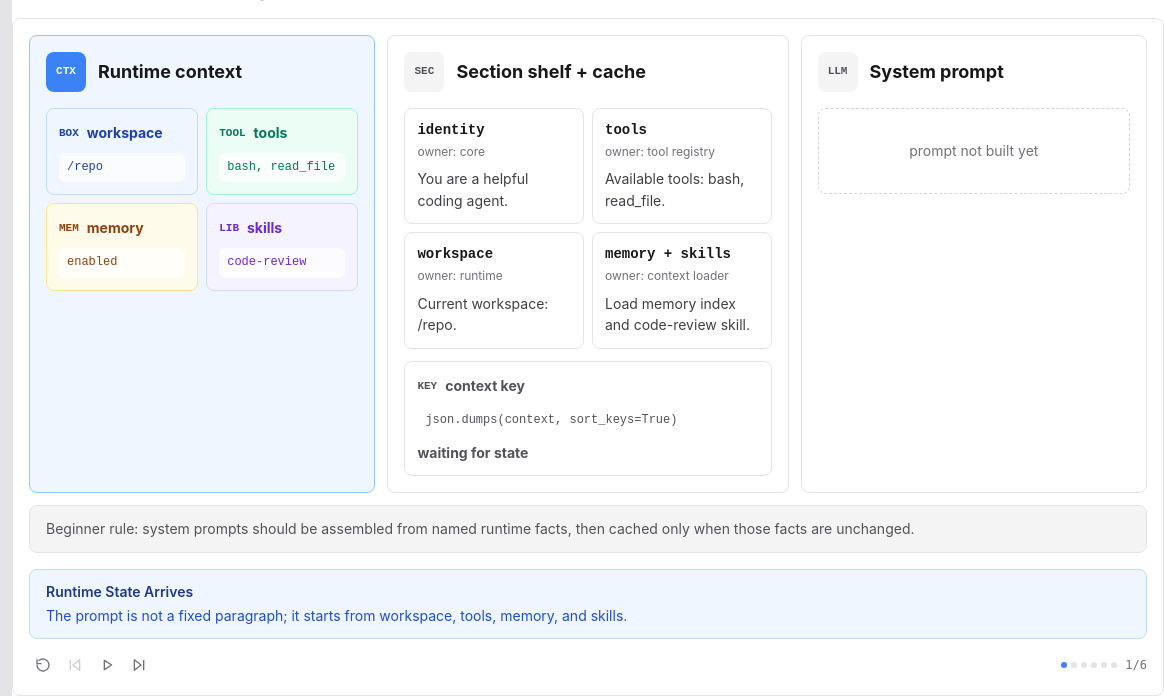
Test: S10SystemPrompt › renders runtime prompt assembly and advances through cache states
Step 1. Click the button titled "Next step" → point(139, 665), box top-left (125, 651), bottom-right (153, 679)
(page scrolled)
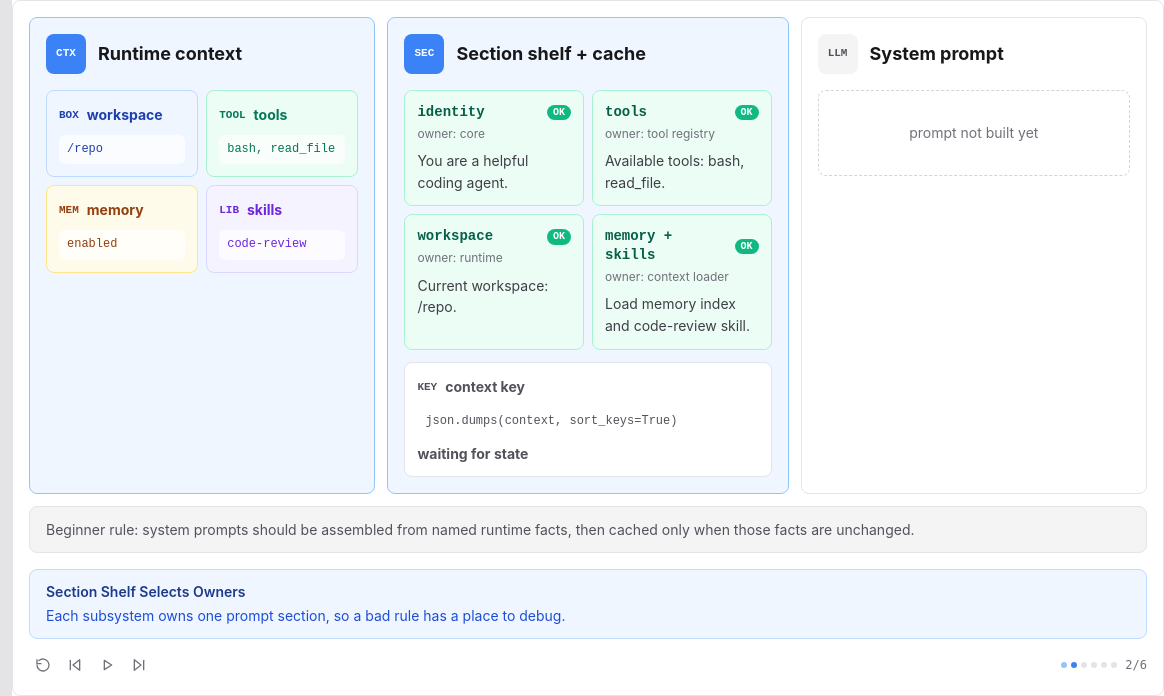
Expected: the text "Section Shelf Selects Owners" is shown, top-left (46, 584), bottom-right (246, 600)
Step 2. Click the button titled "Next step" → point(139, 666), box top-left (125, 652), bottom-right (153, 680)
(page scrolled)
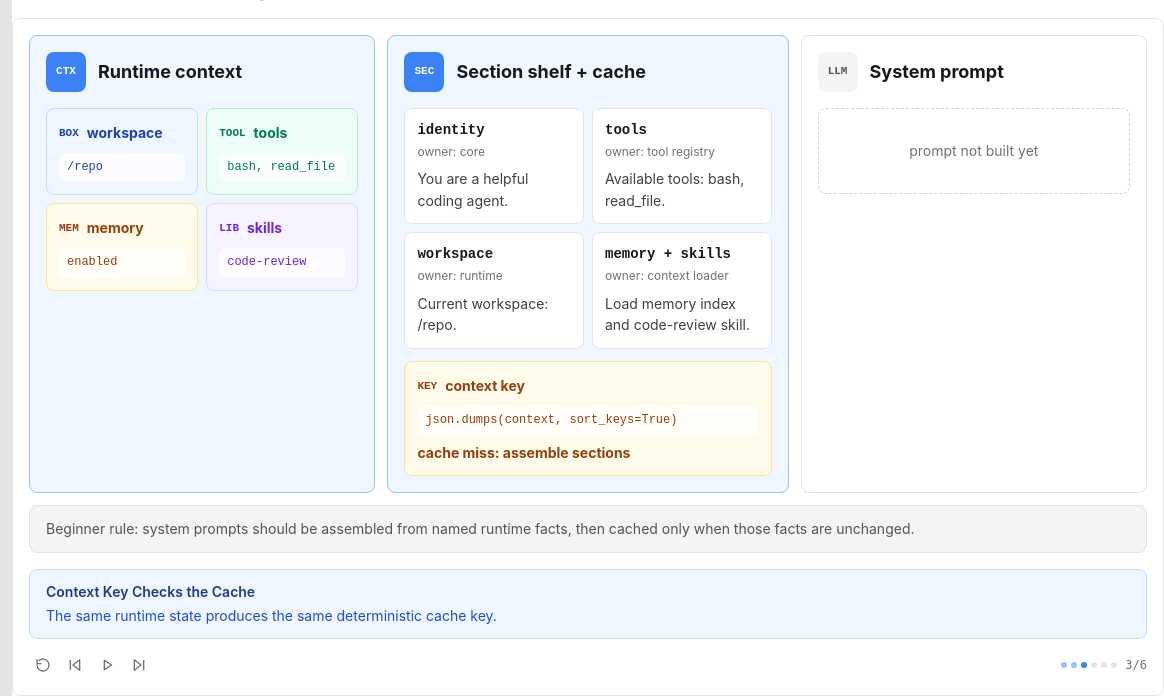
Expected: the text "Context Key Checks the Cache" is shown, top-left (46, 583), bottom-right (255, 600)
Expected: the text "cache miss: assemble sections" is shown, top-left (417, 444), bottom-right (630, 461)
Step 3. Click the button titled "Next step" → point(139, 665), box top-left (125, 651), bottom-right (153, 679)
(page scrolled)
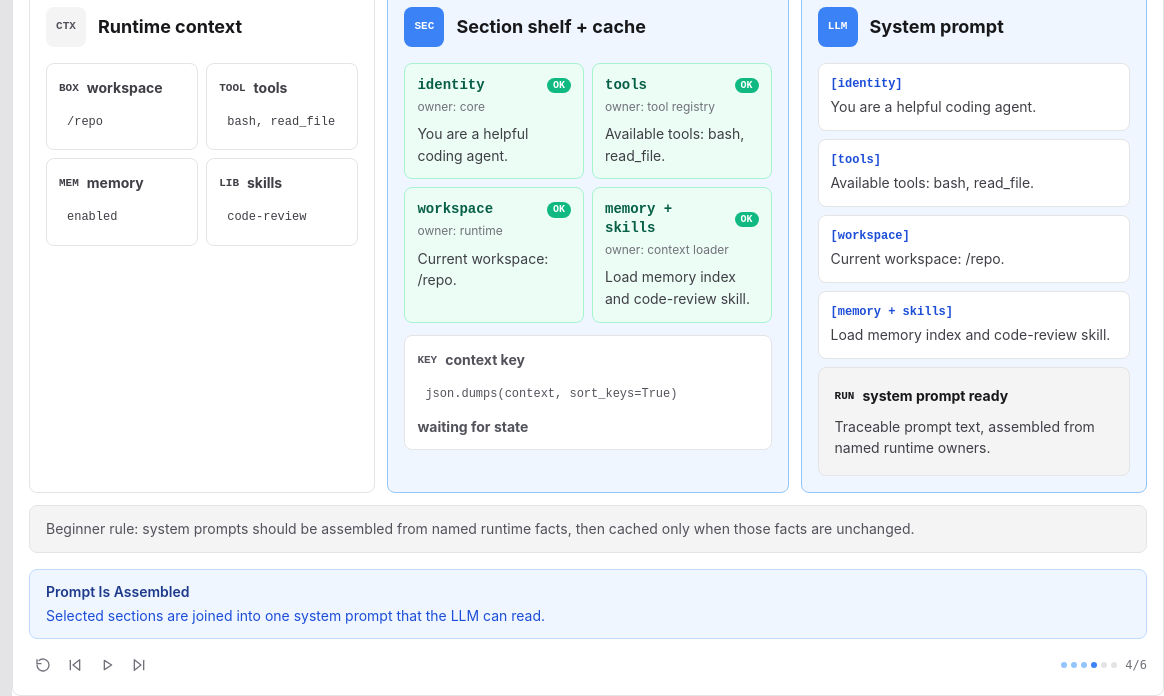
Expected: the text "Prompt Is Assembled" is shown, top-left (46, 583), bottom-right (190, 600)
Expected: the text "system prompt ready" is shown, top-left (862, 384), bottom-right (1008, 408)
Expected: the text "Traceable prompt text, assembled from named runtime owners." is shown, top-left (835, 416), bottom-right (1113, 459)
Step 4. Click the button titled "Next step" → point(139, 665), box top-left (125, 651), bottom-right (153, 679)
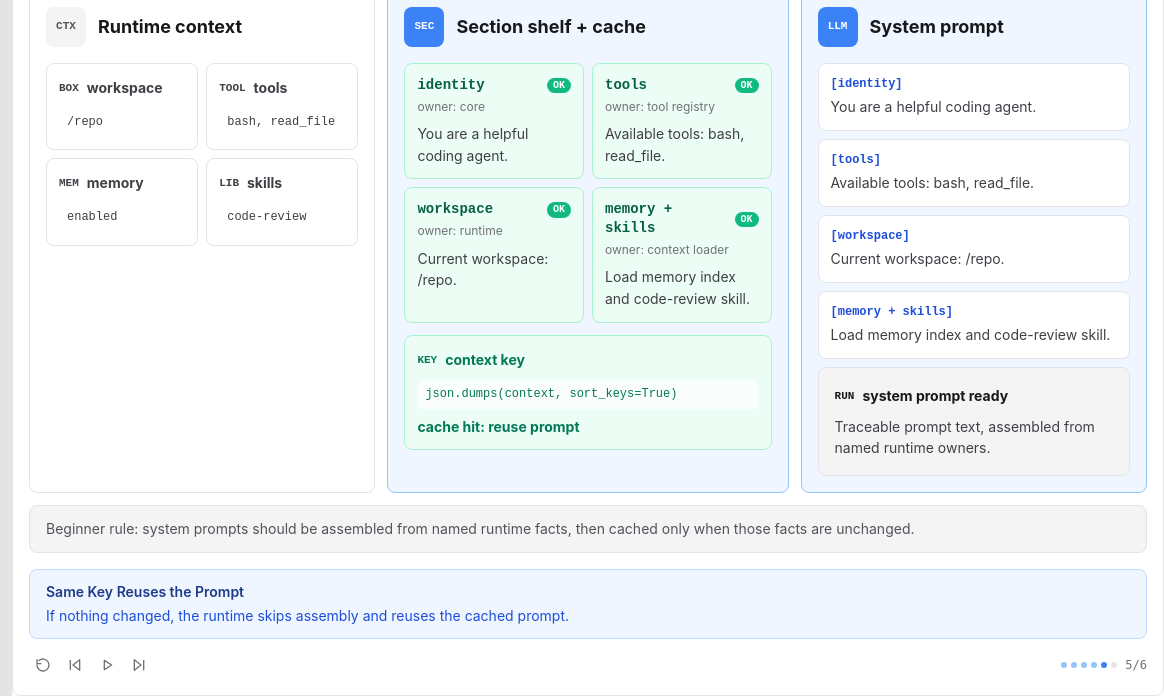
Expected: the text "Same Key Reuses the Prompt" is shown, top-left (46, 583), bottom-right (244, 600)
Expected: the text "cache hit: reuse prompt" is shown, top-left (417, 418), bottom-right (580, 435)
Step 5. Click the button titled "Next step" → point(139, 665), box top-left (125, 651), bottom-right (153, 679)
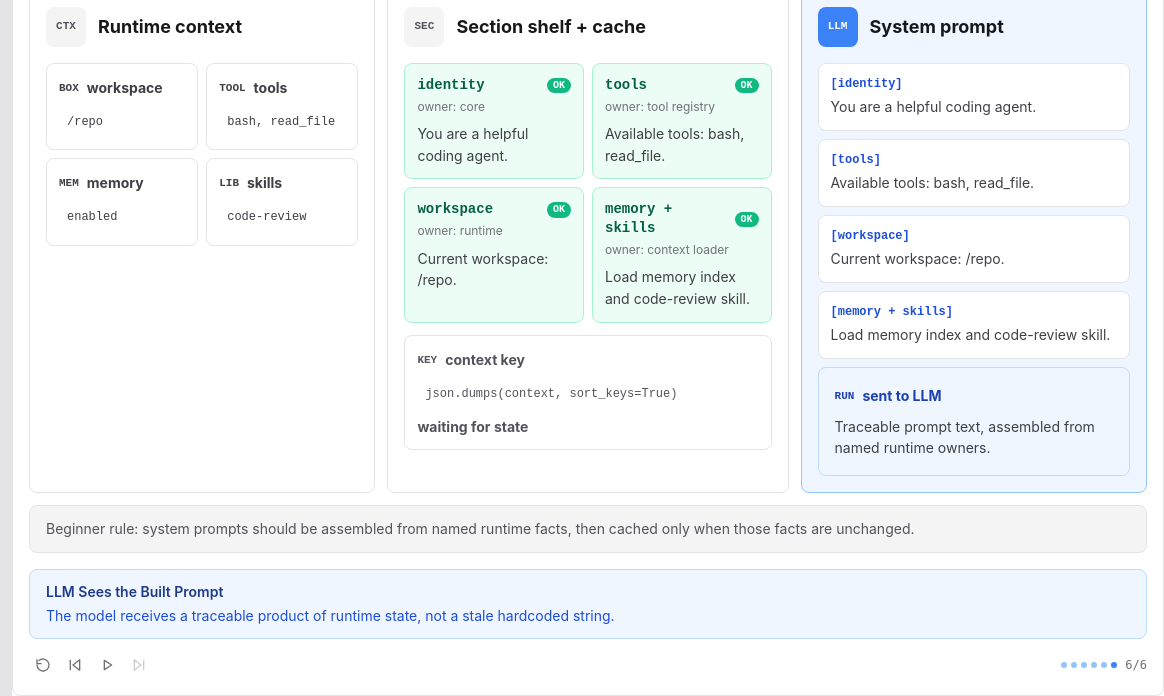
Expected: the text "Beginner rule: system prompts should be assembled from named runtime facts, then cached only when those facts are unchanged." is shown, top-left (46, 520), bottom-right (914, 537)
Expected: the text "LLM Sees the Built Prompt" is shown, top-left (46, 583), bottom-right (223, 600)
Expected: the text "sent to LLM" is shown, top-left (862, 384), bottom-right (942, 408)
